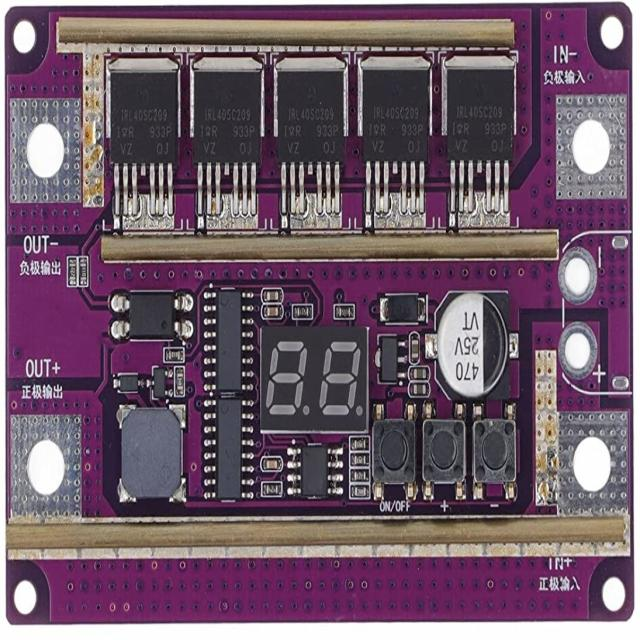2235: (471, 414, 519, 492), (422, 418, 466, 492), (372, 411, 413, 489)
4439: (147, 366, 168, 400)
IC: (108, 58, 182, 210), (193, 57, 260, 207), (445, 51, 515, 194), (276, 55, 344, 194), (364, 56, 432, 193), (209, 286, 248, 395), (209, 399, 245, 502), (122, 288, 188, 338), (298, 440, 331, 496), (380, 328, 400, 388)
capacitor 1V5: (437, 292, 515, 401), (262, 304, 283, 318), (264, 458, 280, 473), (412, 366, 429, 380), (413, 384, 430, 396), (264, 288, 280, 300), (412, 336, 419, 362)
diode -D1-: (384, 293, 426, 326), (114, 371, 140, 398)
display P5: (255, 322, 368, 436)
inductor F1: (122, 405, 185, 501)
resistor IR1: (292, 300, 312, 322), (78, 258, 91, 286), (175, 370, 186, 400), (350, 434, 368, 452), (336, 304, 356, 320), (68, 259, 77, 289), (351, 467, 368, 482), (169, 347, 183, 364), (350, 452, 369, 464), (352, 484, 368, 497), (265, 484, 280, 494)
